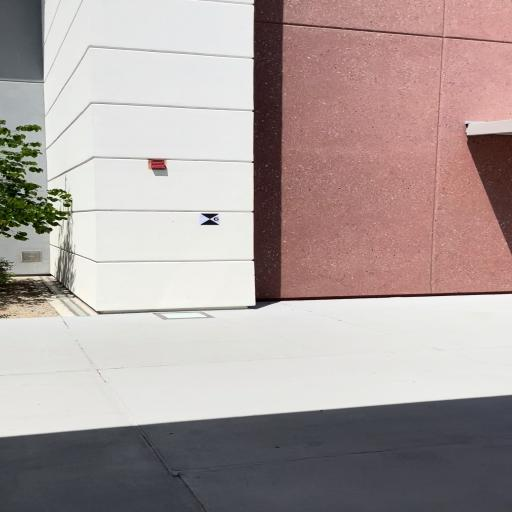target6: (200, 213, 220, 225)
